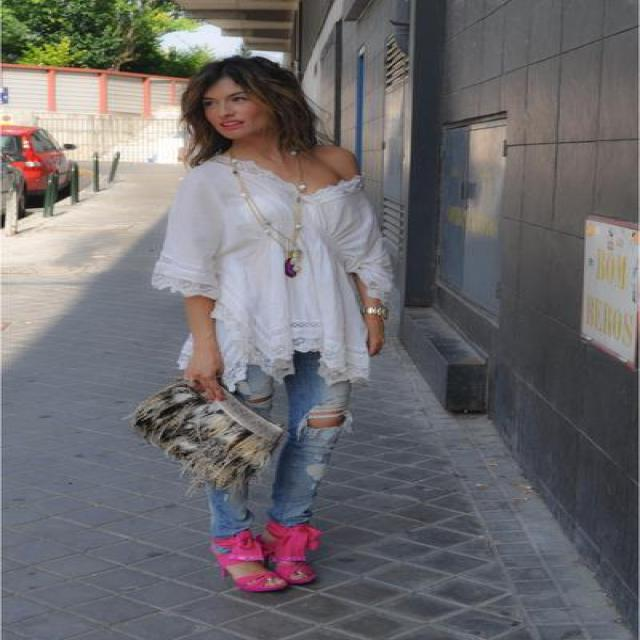bag: (134, 388, 282, 486)
pants: (190, 350, 346, 536)
shirt: (152, 157, 390, 414)
shoe: (216, 523, 320, 590)
